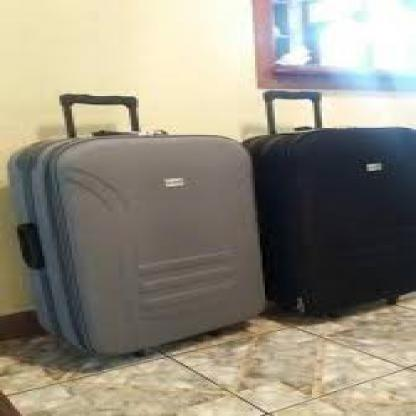maleta: (10, 125, 277, 365), (190, 115, 414, 327)
